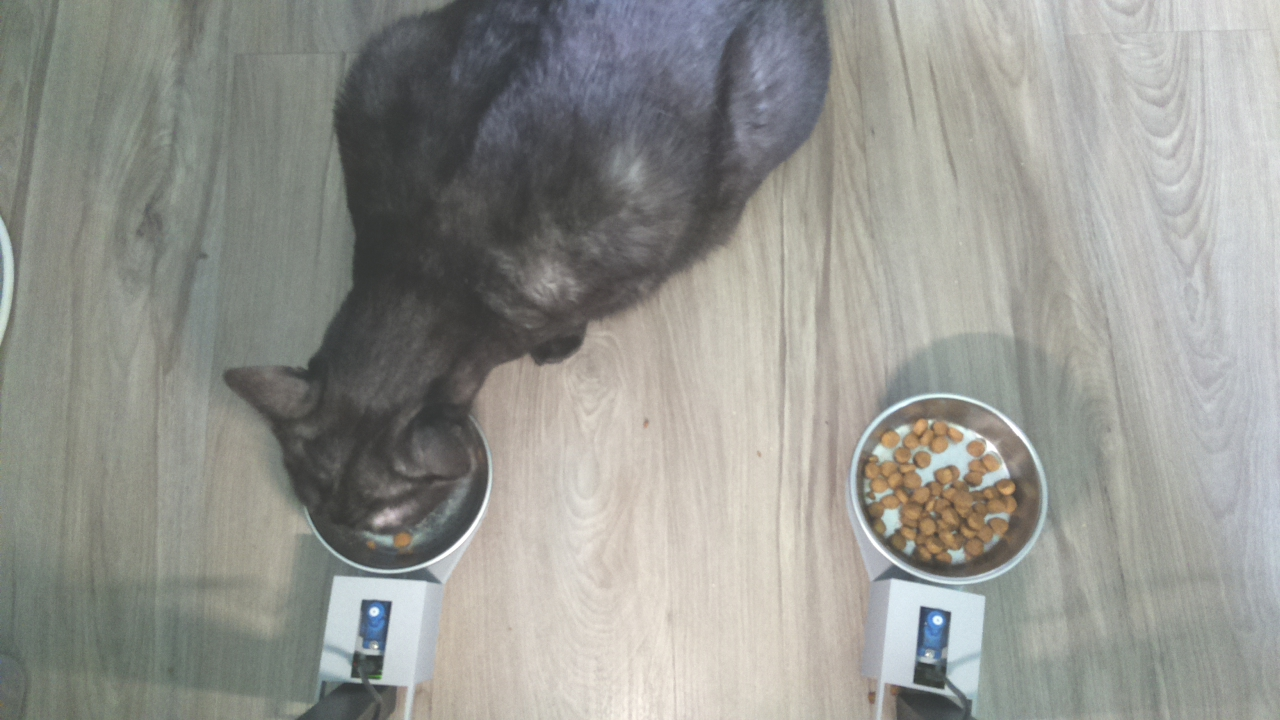open_bowl: (852, 393, 1050, 592)
saki_eating: (211, 287, 495, 582)
